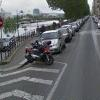Motorcycle: (21, 41, 61, 68)
